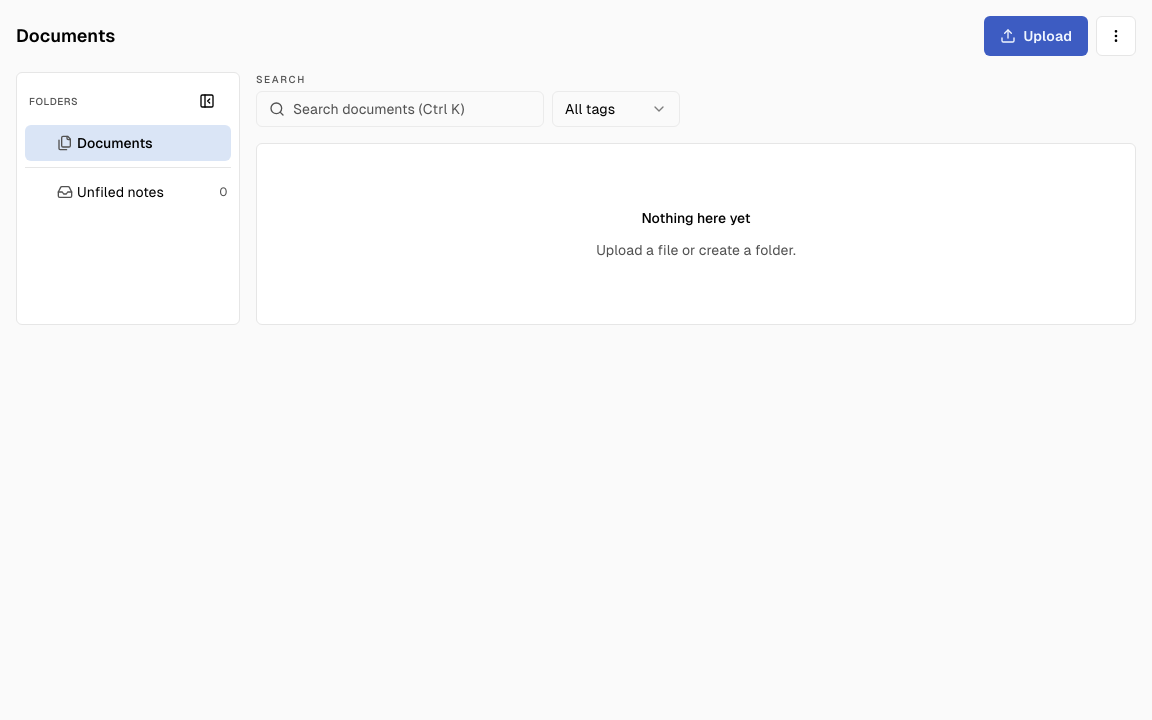
Scenario: DocumentsPanel › search overlay › offers only the twelve most-used tags as the overlay's suggestions
Click the field labelled "Search" at (414, 109), box [285,89,543,129]
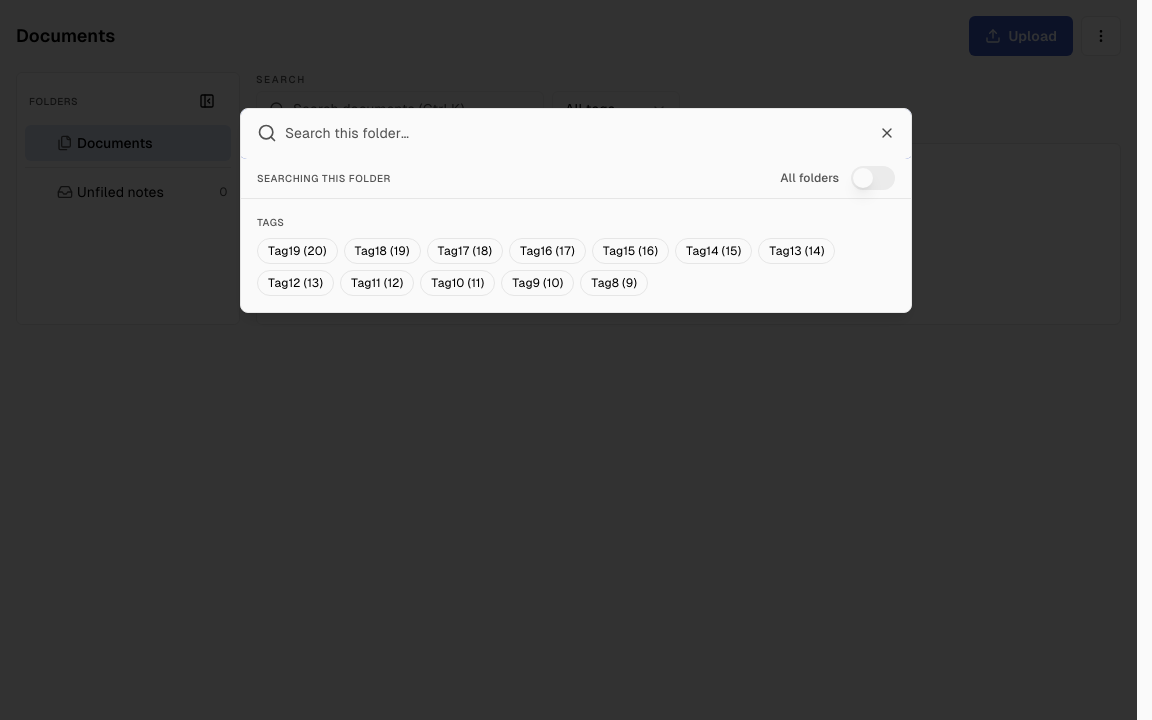
Expected: the button "Tag19 (20)" is shown, [257,238,338,264]
Expected: the button "Tag8 (9)" is shown, [580,270,648,296]
